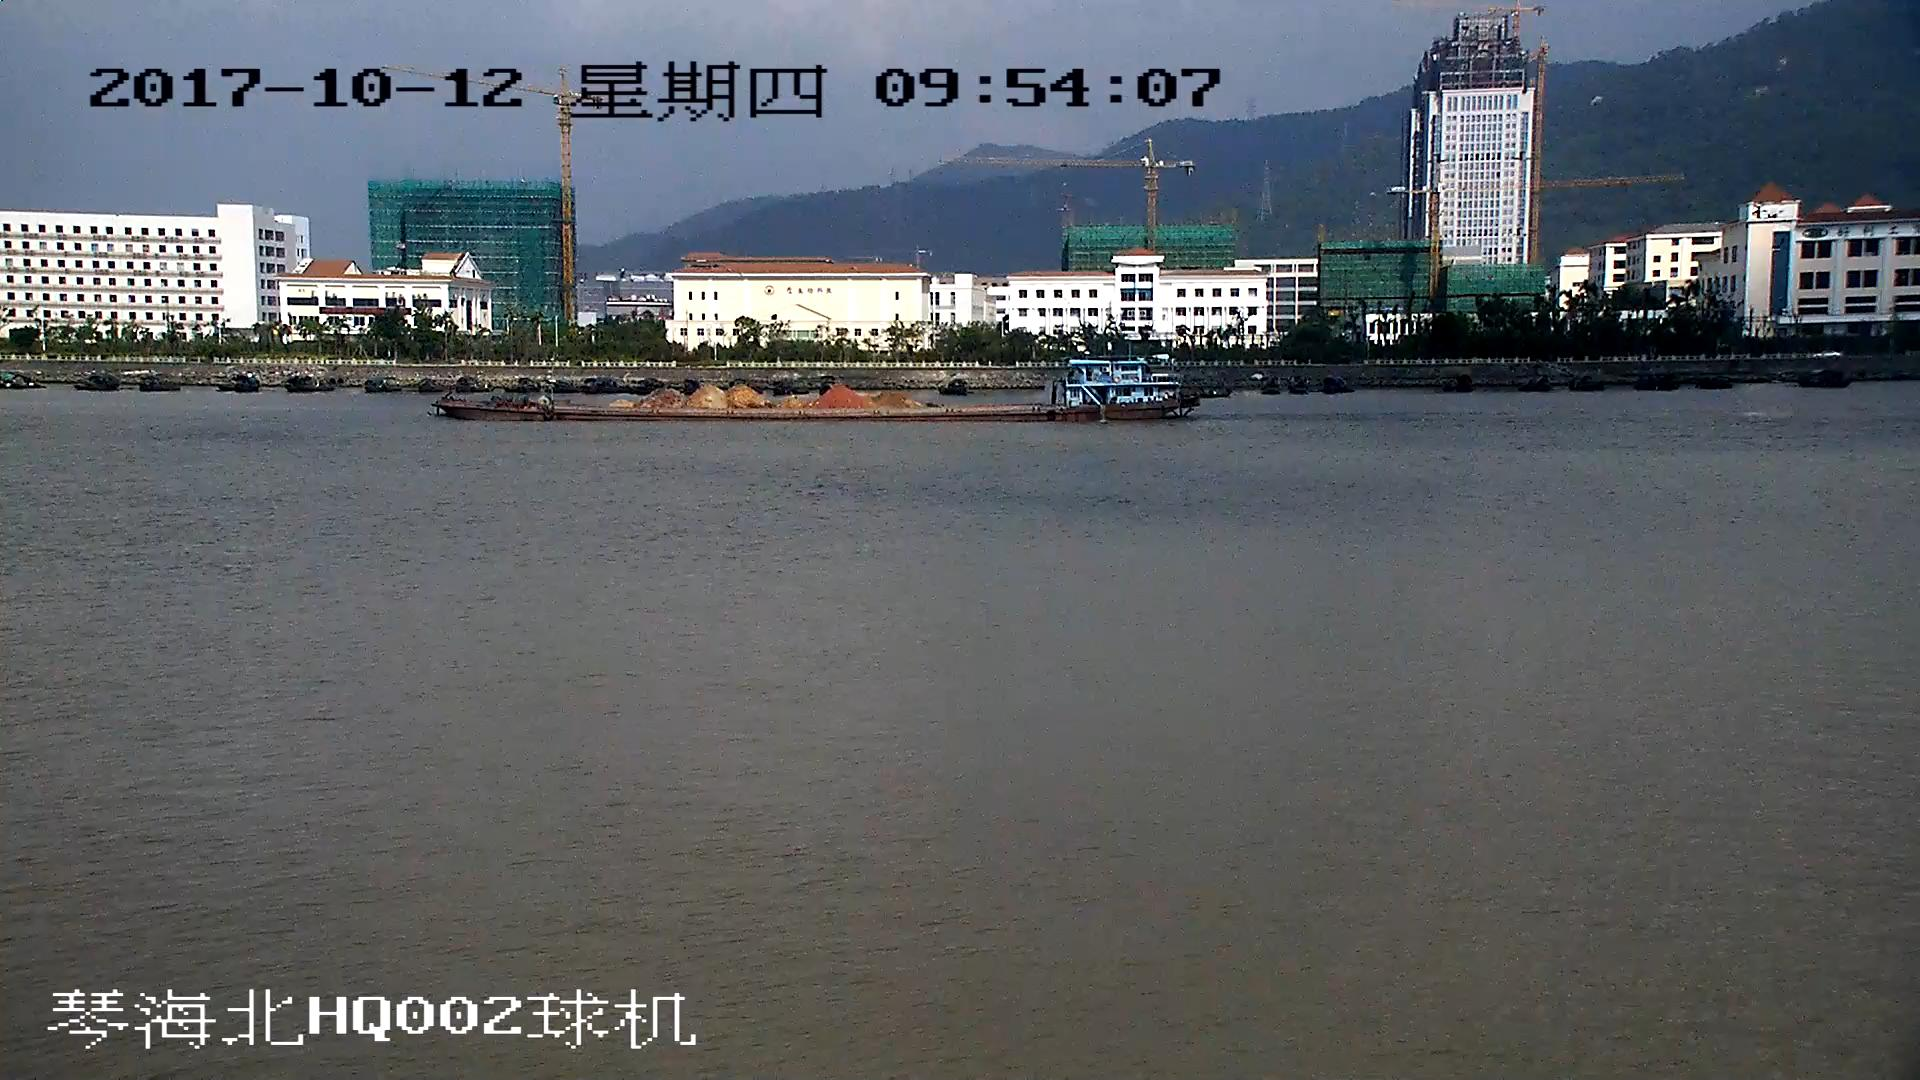ore carrier: (441, 358, 1193, 426)
